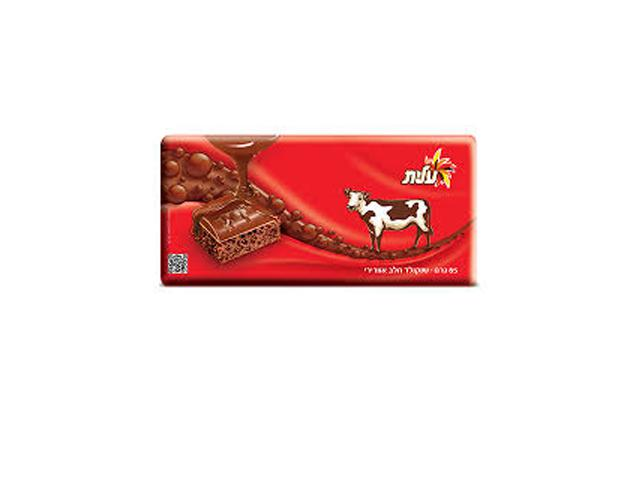chocolate: (148, 102, 446, 259)
